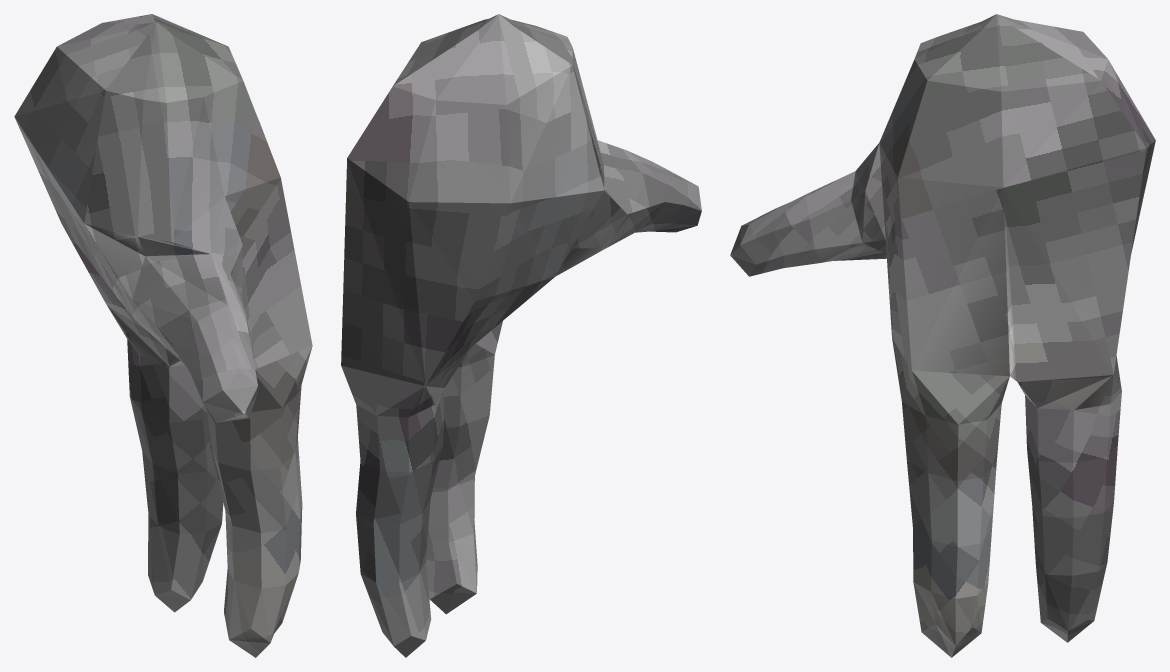
Rendered from Gorilla_left_hand.fbx.
The picture shows the model from 3 angles, left to right: view 1: azimuth 30°, elevation 25°; view 2: azimuth 150°, elevation 25°; view 3: azimuth 270°, elevation 25°; orthographic projection. The views are drawn at different scales.
Parts seen in each view (by area): view 1: GorillaBody; view 2: GorillaBody; view 3: GorillaBody.
Part boxes in pixels (x1=…): GorillaBody: x1=14, y1=14, x2=312, y2=657; GorillaBody: x1=341, y1=14, x2=701, y2=657; GorillaBody: x1=730, y1=14, x2=1155, y2=657.
Size of the model in its own units: 8.23 by 23.3 by 14.78.
